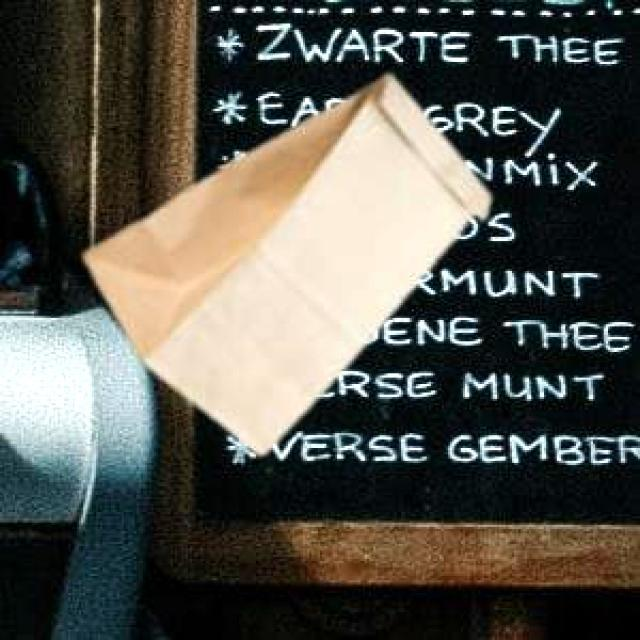Paper_Bag: (82, 71, 488, 452)
